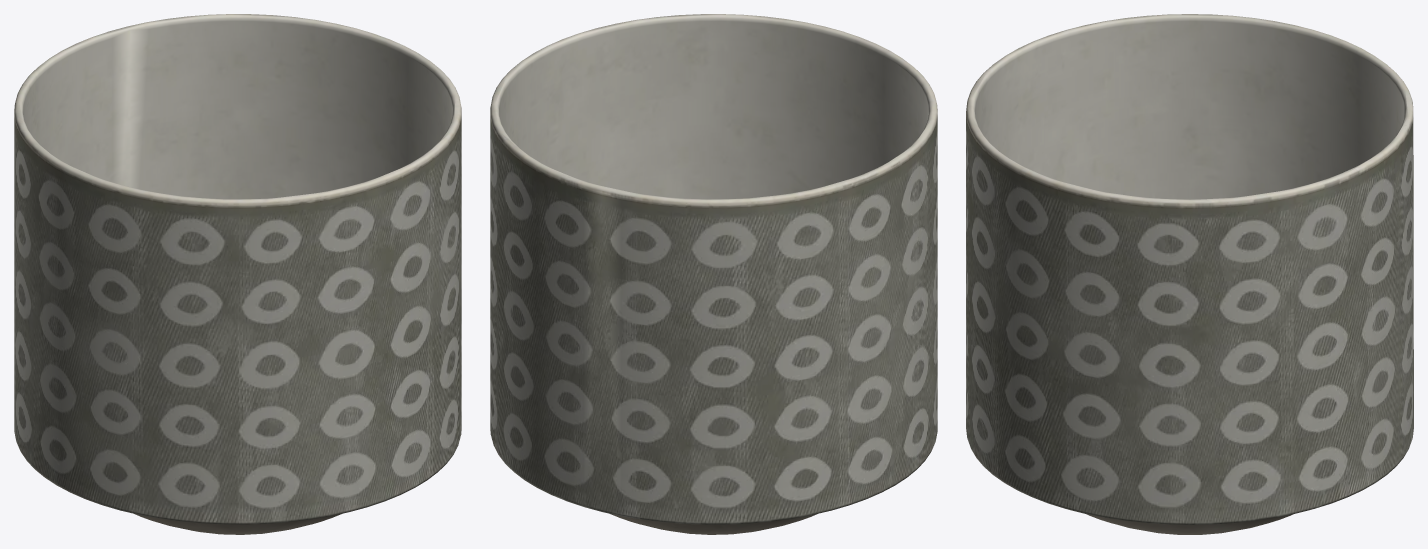
Rendered from abo-B07QHKQMYL.glb.
3 renders of one model, left to right at view 1: azimuth 30°, elevation 25°; view 2: azimuth 150°, elevation 25°; view 3: azimuth 270°, elevation 25°, orthographic.
Visible parts, largest first — view 1: RootNode; view 2: RootNode; view 3: RootNode.
Boxes of the visible parts, x1,y1,x2,y2 form: RootNode: (14, 14, 461, 534); RootNode: (490, 14, 937, 534); RootNode: (966, 14, 1413, 534).
Size of the model in its own units: 0.2502 by 0.2387 by 0.2502.
Materials: 1 (1 with a texture image).
